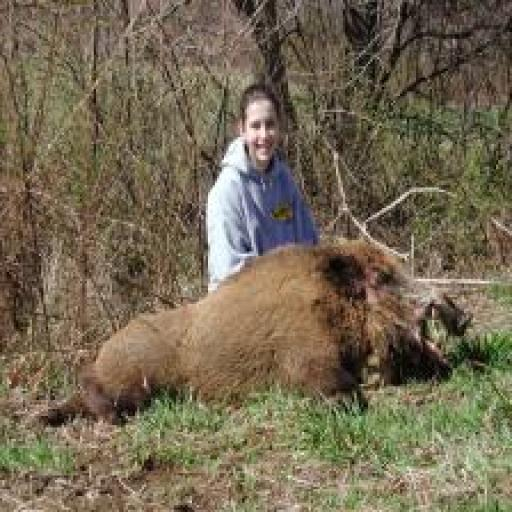Pig: (34, 240, 472, 425)
